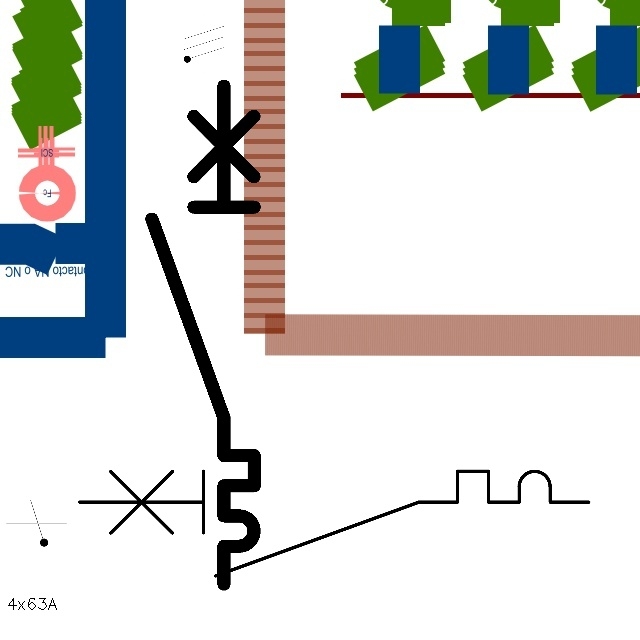interruptor_termomagnetico: (66, 458, 602, 589), (139, 73, 267, 597)
